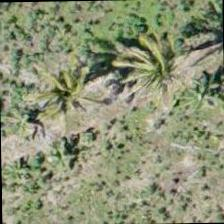Kelapa_Sawit: (111, 10, 203, 102), (20, 42, 112, 134)
